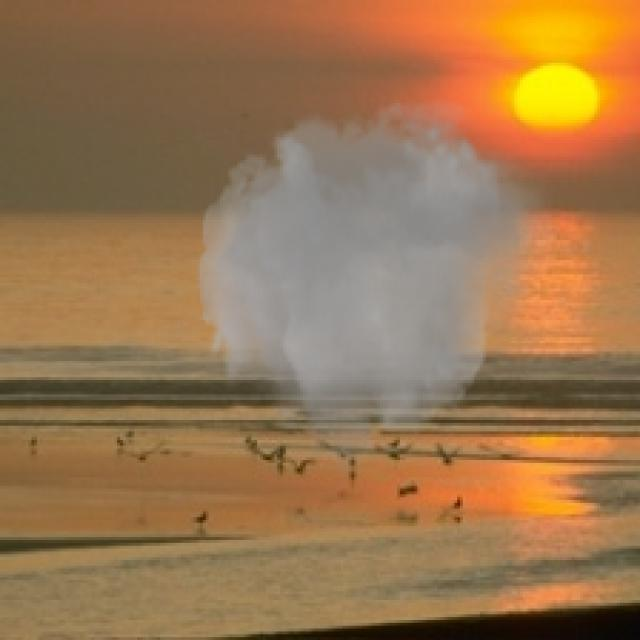smoke: (189, 83, 560, 483)
